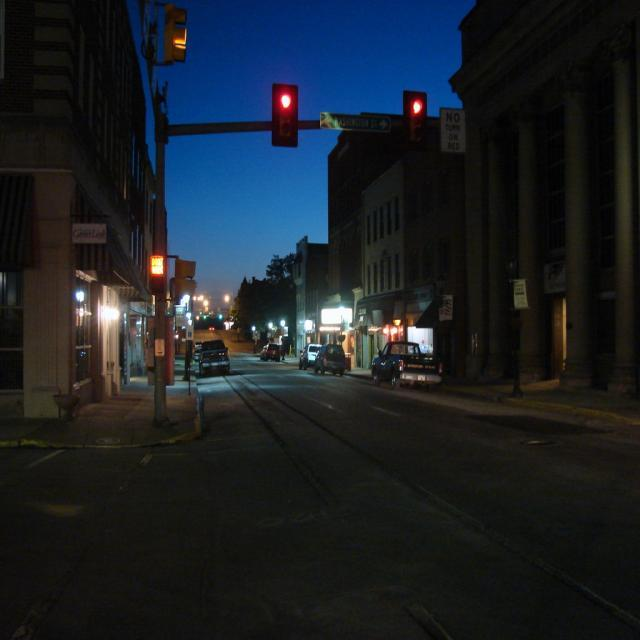traffic light: (276, 84, 296, 144), (409, 93, 426, 147)
